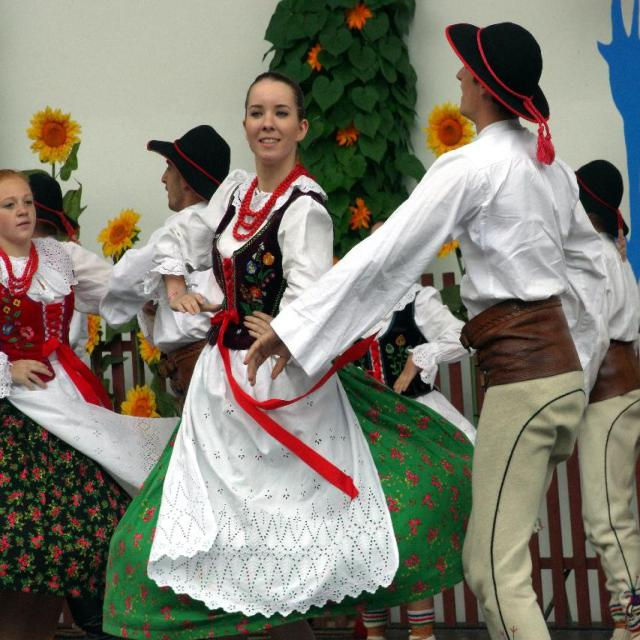no_helmet: (416, 36, 568, 168), (130, 122, 232, 218), (225, 84, 314, 155), (0, 169, 47, 236)
